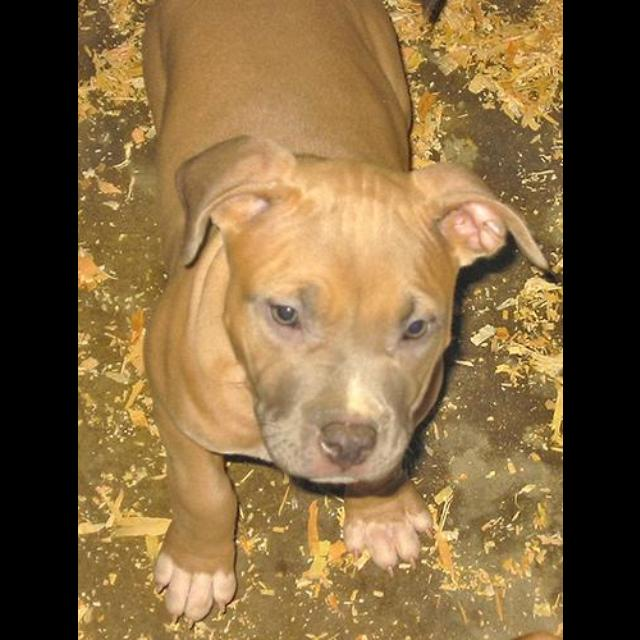amstaff: (131, 2, 553, 627)
